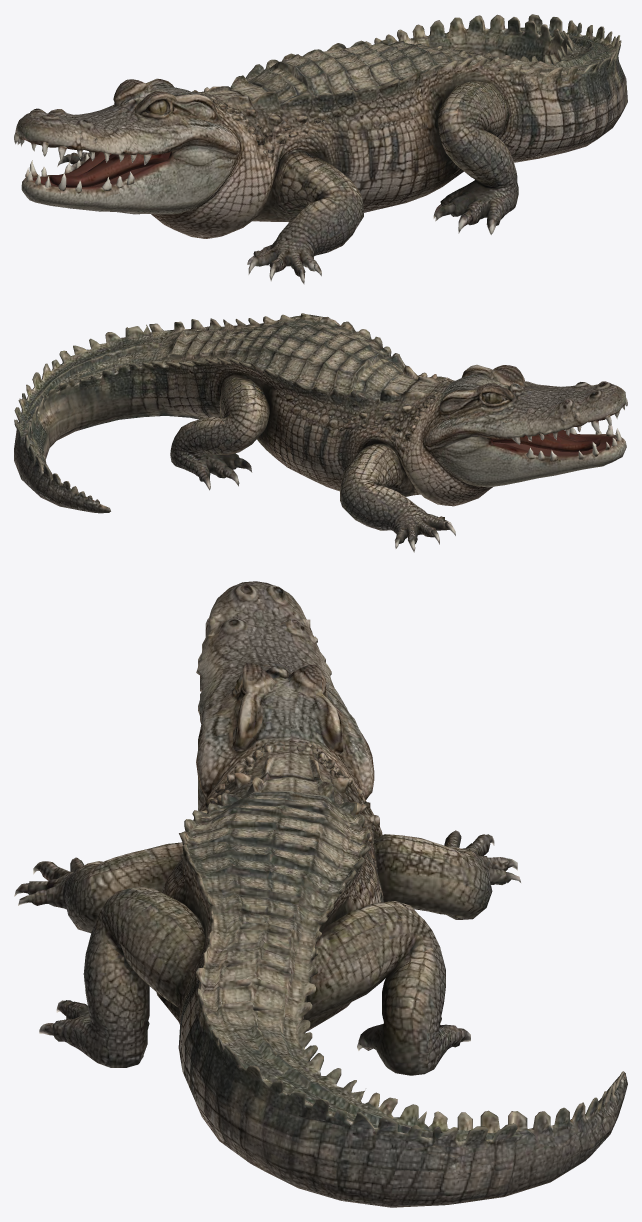
3 views of the same model, one above another, from view 1: azimuth 30°, elevation 25°; view 2: azimuth 150°, elevation 25°; view 3: azimuth 270°, elevation 25° (orthographic). The views are drawn at different scales.
Parts seen in each view (by area): view 1: Model_0; view 2: Model_0; view 3: Model_0.
Boxes of the visible parts, left/top/right/bottom form: Model_0: left=14, top=14, right=627, bottom=284; Model_0: left=14, top=313, right=627, bottom=552; Model_0: left=14, top=581, right=627, bottom=1207.
Bounding box in the file's own units: 1 × 0.2603 × 0.6204.
1 material, 1 textured.
